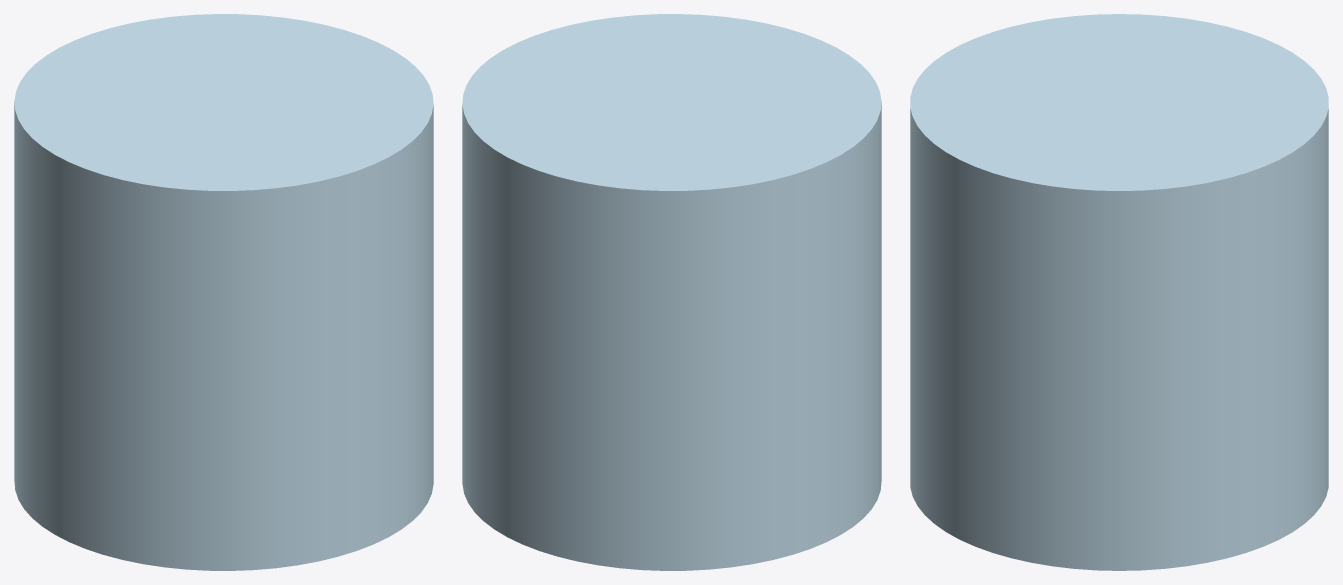
Rendered from MountAzimuth.gltf.
3 renders of one model, left to right at view 1: azimuth 30°, elevation 25°; view 2: azimuth 150°, elevation 25°; view 3: azimuth 270°, elevation 25°, orthographic.
Visible parts, largest first — view 1: MountAzimuth; view 2: MountAzimuth; view 3: MountAzimuth.
Part boxes in pixels (x1=…): MountAzimuth: x1=14, y1=14, x2=433, y2=570; MountAzimuth: x1=462, y1=14, x2=881, y2=570; MountAzimuth: x1=910, y1=14, x2=1328, y2=570.
Size of the model in its own units: 0.1 by 0.1 by 0.0999.
